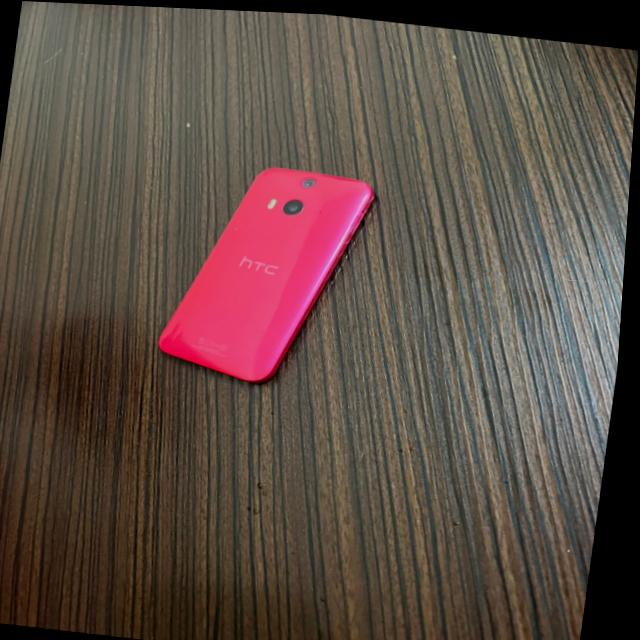Smartphone: (135, 148, 414, 400)
